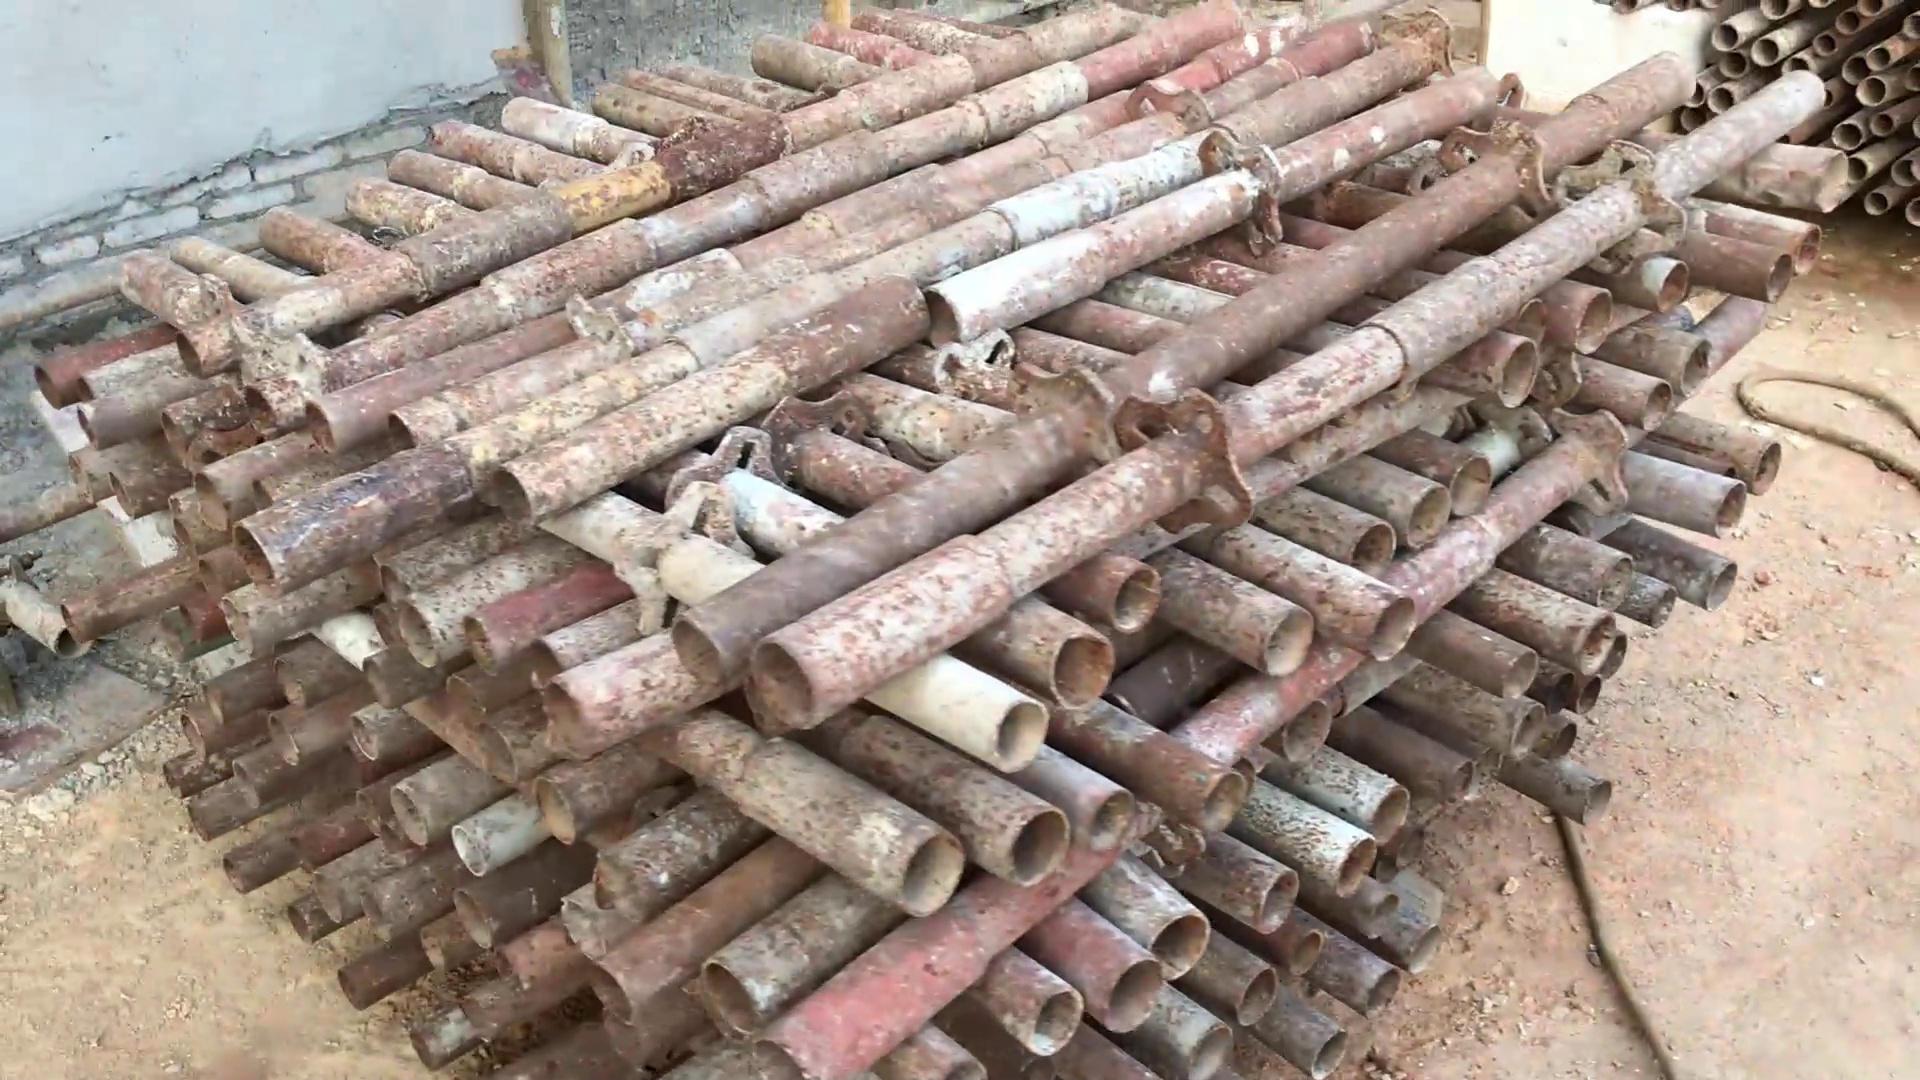scaffold: (32, 1, 1851, 1080), (1676, 1, 1915, 243)
